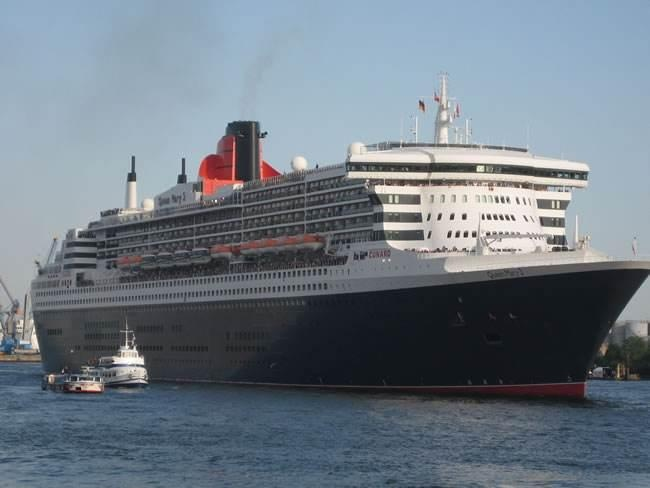otherboat: (94, 330, 157, 392), (45, 364, 105, 395)
youlun: (30, 83, 638, 380)
